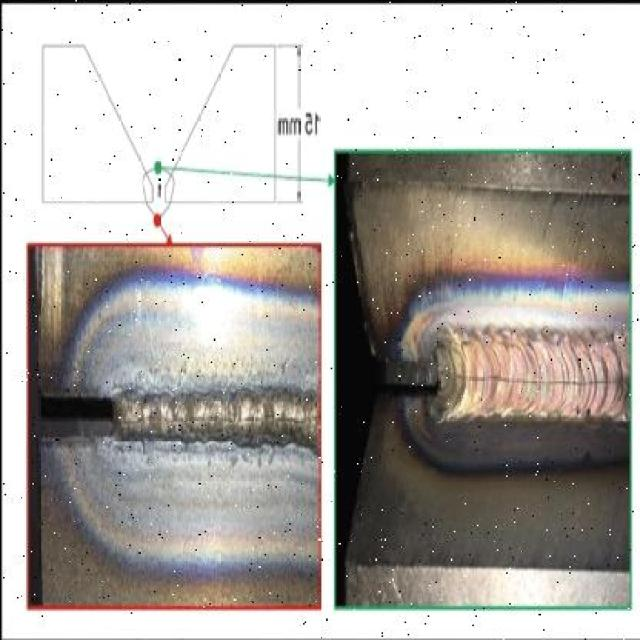Defect: (438, 347, 630, 391), (114, 408, 317, 429)
